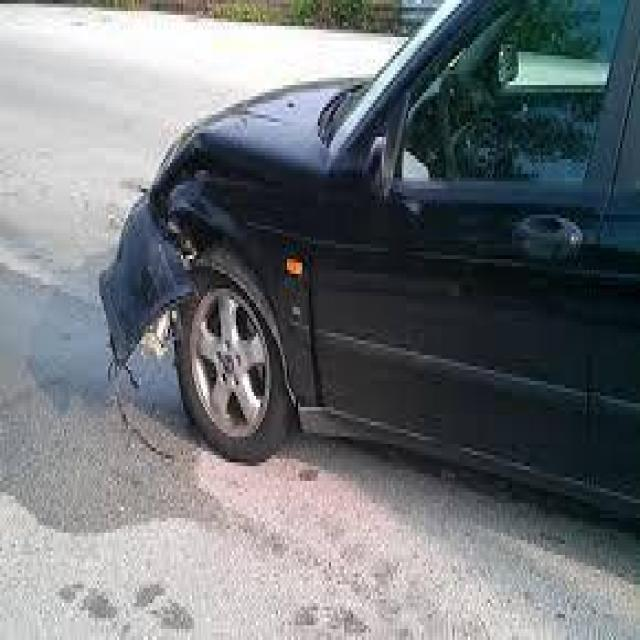damaged: (98, 118, 218, 370)
